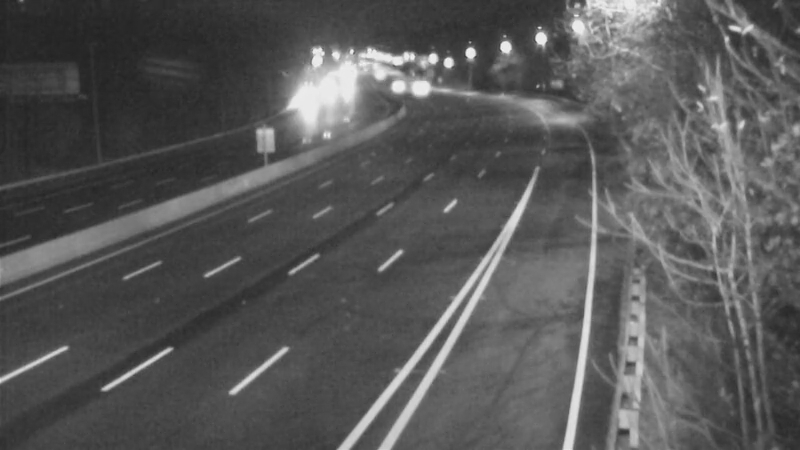vehicle: (372, 61, 422, 111), (389, 63, 439, 113)
